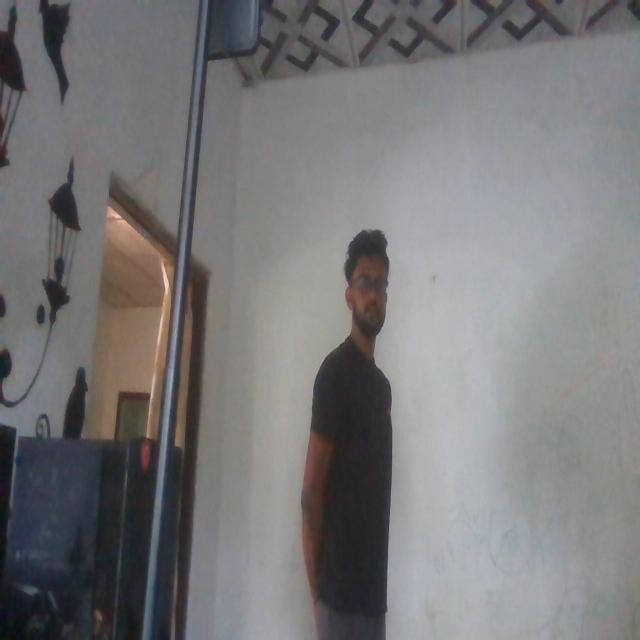Person: (304, 226, 416, 623)
